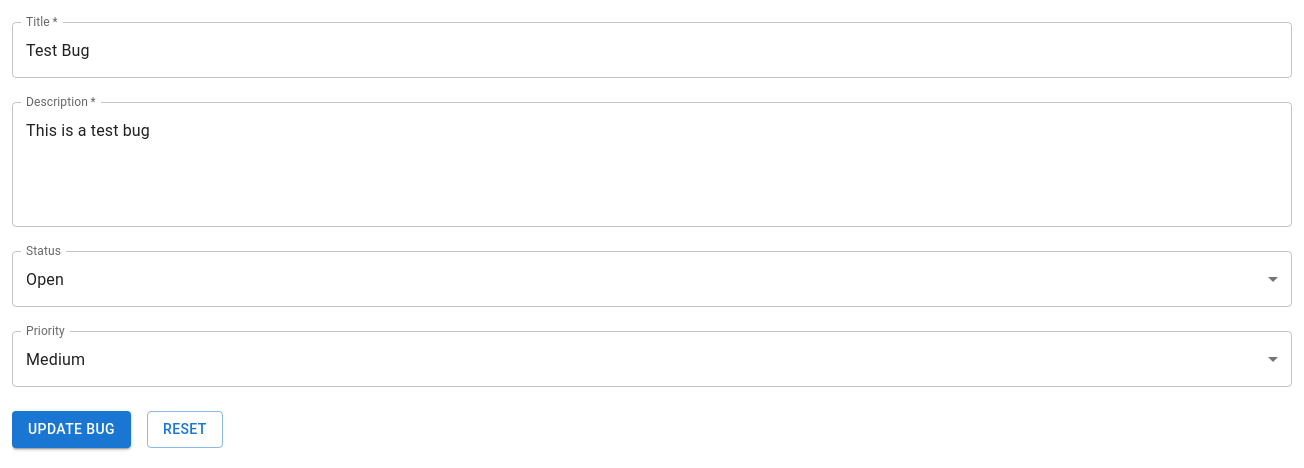
Test: BugForm Component › handles form reset when editing
Replace the text in the field labelled "Title *" with "Changed Title" at (652, 50), box [12, 22, 1292, 78]
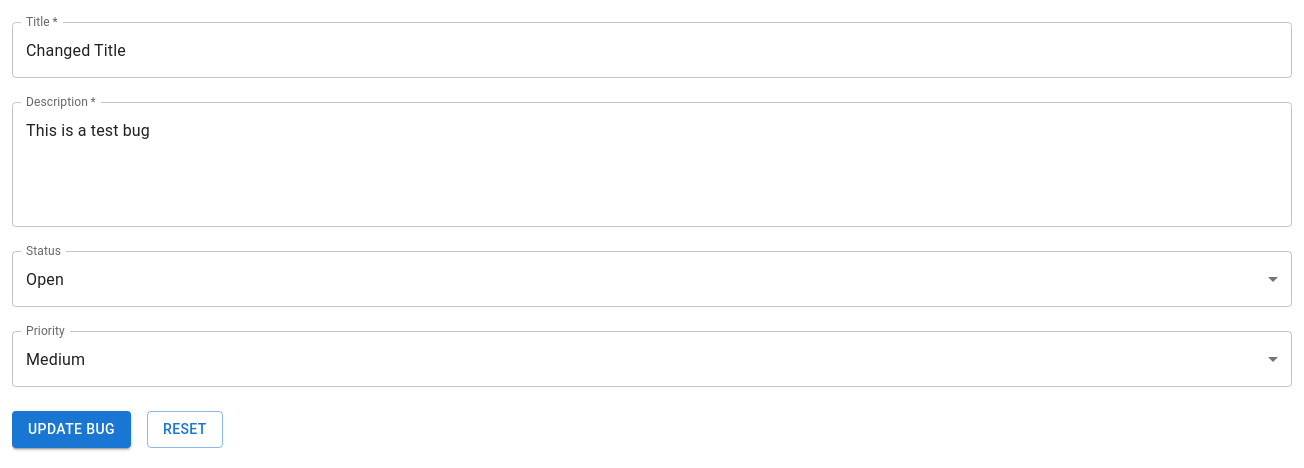
Click the button "Reset" at (185, 429), box [147, 411, 223, 448]
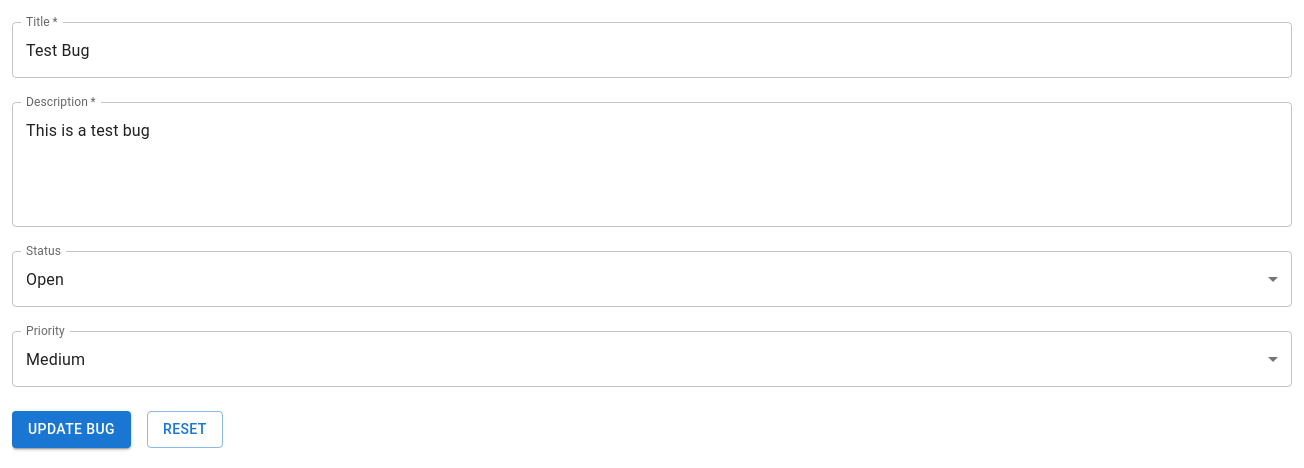
Result: the field labelled "Title *" holds "Test Bug" at [12, 22, 1292, 78]
